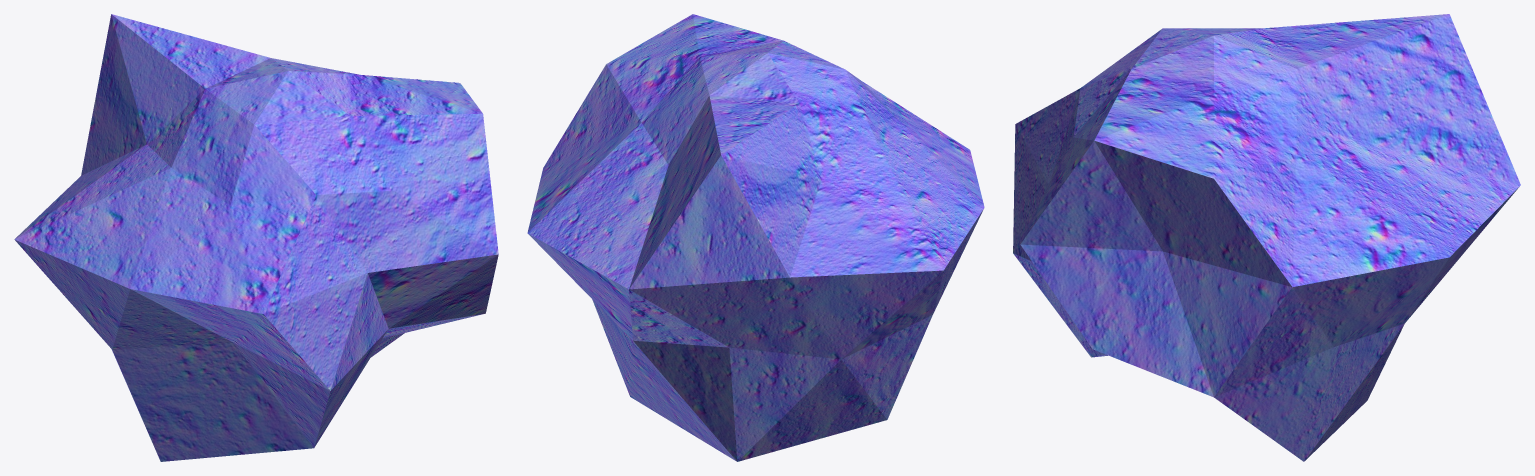
File: smallasteroid1_LOD4.fbx
3 views of the same model, side by side, from view 1: azimuth 30°, elevation 25°; view 2: azimuth 150°, elevation 25°; view 3: azimuth 270°, elevation 25° (orthographic). The views are drawn at different scales.
Visible parts, largest first — view 1: Icosphere; view 2: Icosphere; view 3: Icosphere.
Part boxes in pixels (x1=…): Icosphere: x1=14, y1=14, x2=498, y2=461; Icosphere: x1=527, y1=14, x2=984, y2=461; Icosphere: x1=1013, y1=14, x2=1520, y2=461.
Bounding box in the file's own units: 314 × 258 × 308.
